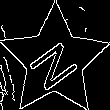N_NE: (24, 29, 85, 92)
